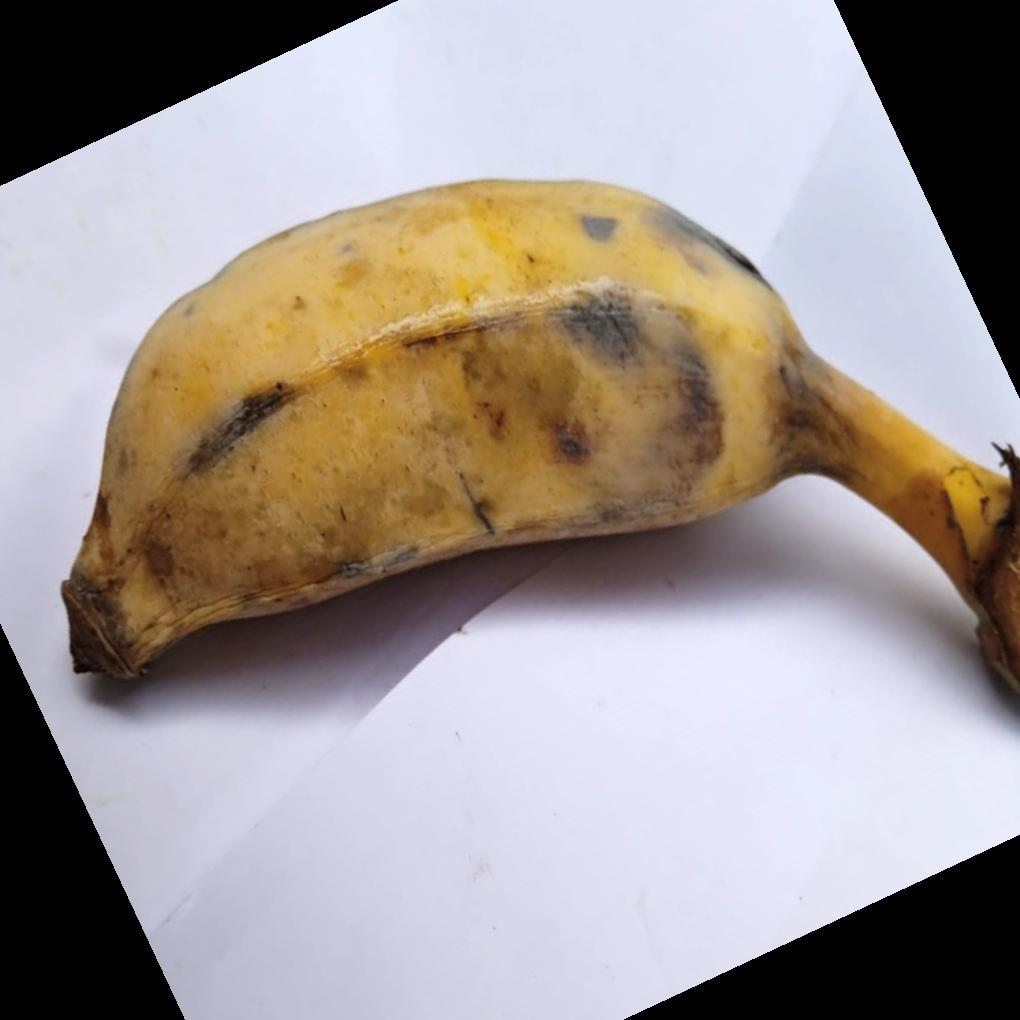Banana Ripe: (72, 167, 1020, 759)
